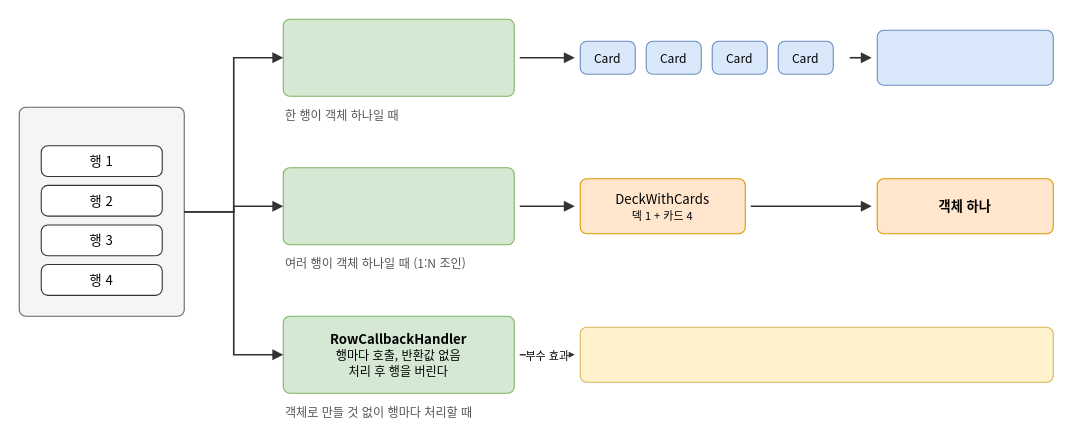
The diagram is 1073 pixels wide and 443 high, and some of its shapes have lost their labels. The box of each missing label's shape, as (x1, y1, x2, y2) in pixels:
List<Card>: (876, 29, 1053, 85)
ResultSet: (18, 106, 184, 316)
ResultSetExtractor 결과 집합 전체를 통째로 받아 커서를 직접 옮긴다: (282, 167, 514, 245)
RowMapper 행마다 호출 행 하나 → 객체 하나: (282, 18, 514, 96)
파일 · 응답 스트림에 바로 쓰기 애플리케이션에 쌓이는 객체가 없다: (579, 326, 1053, 382)
